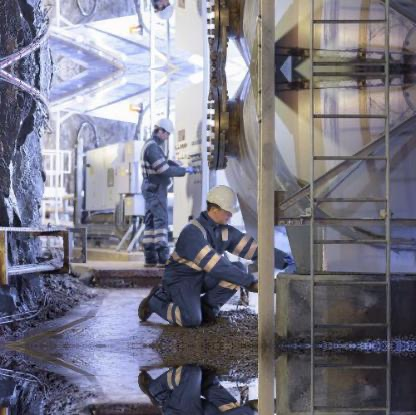Safety Helmet: (201, 183, 243, 230), (151, 116, 178, 147)
